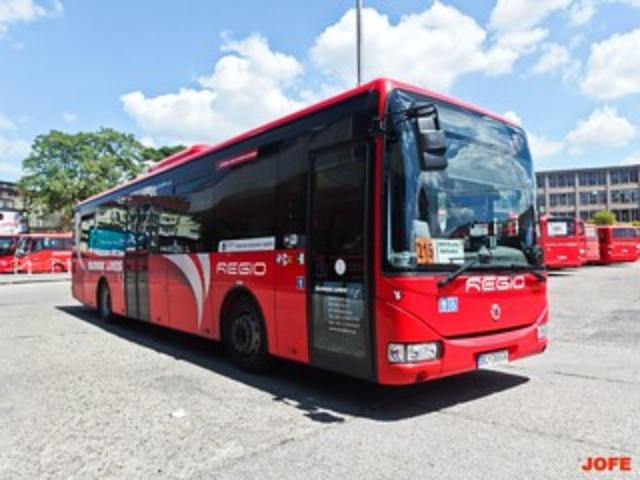bus: (70, 76, 550, 388), (2, 230, 74, 274), (543, 216, 583, 271), (597, 219, 640, 266)
